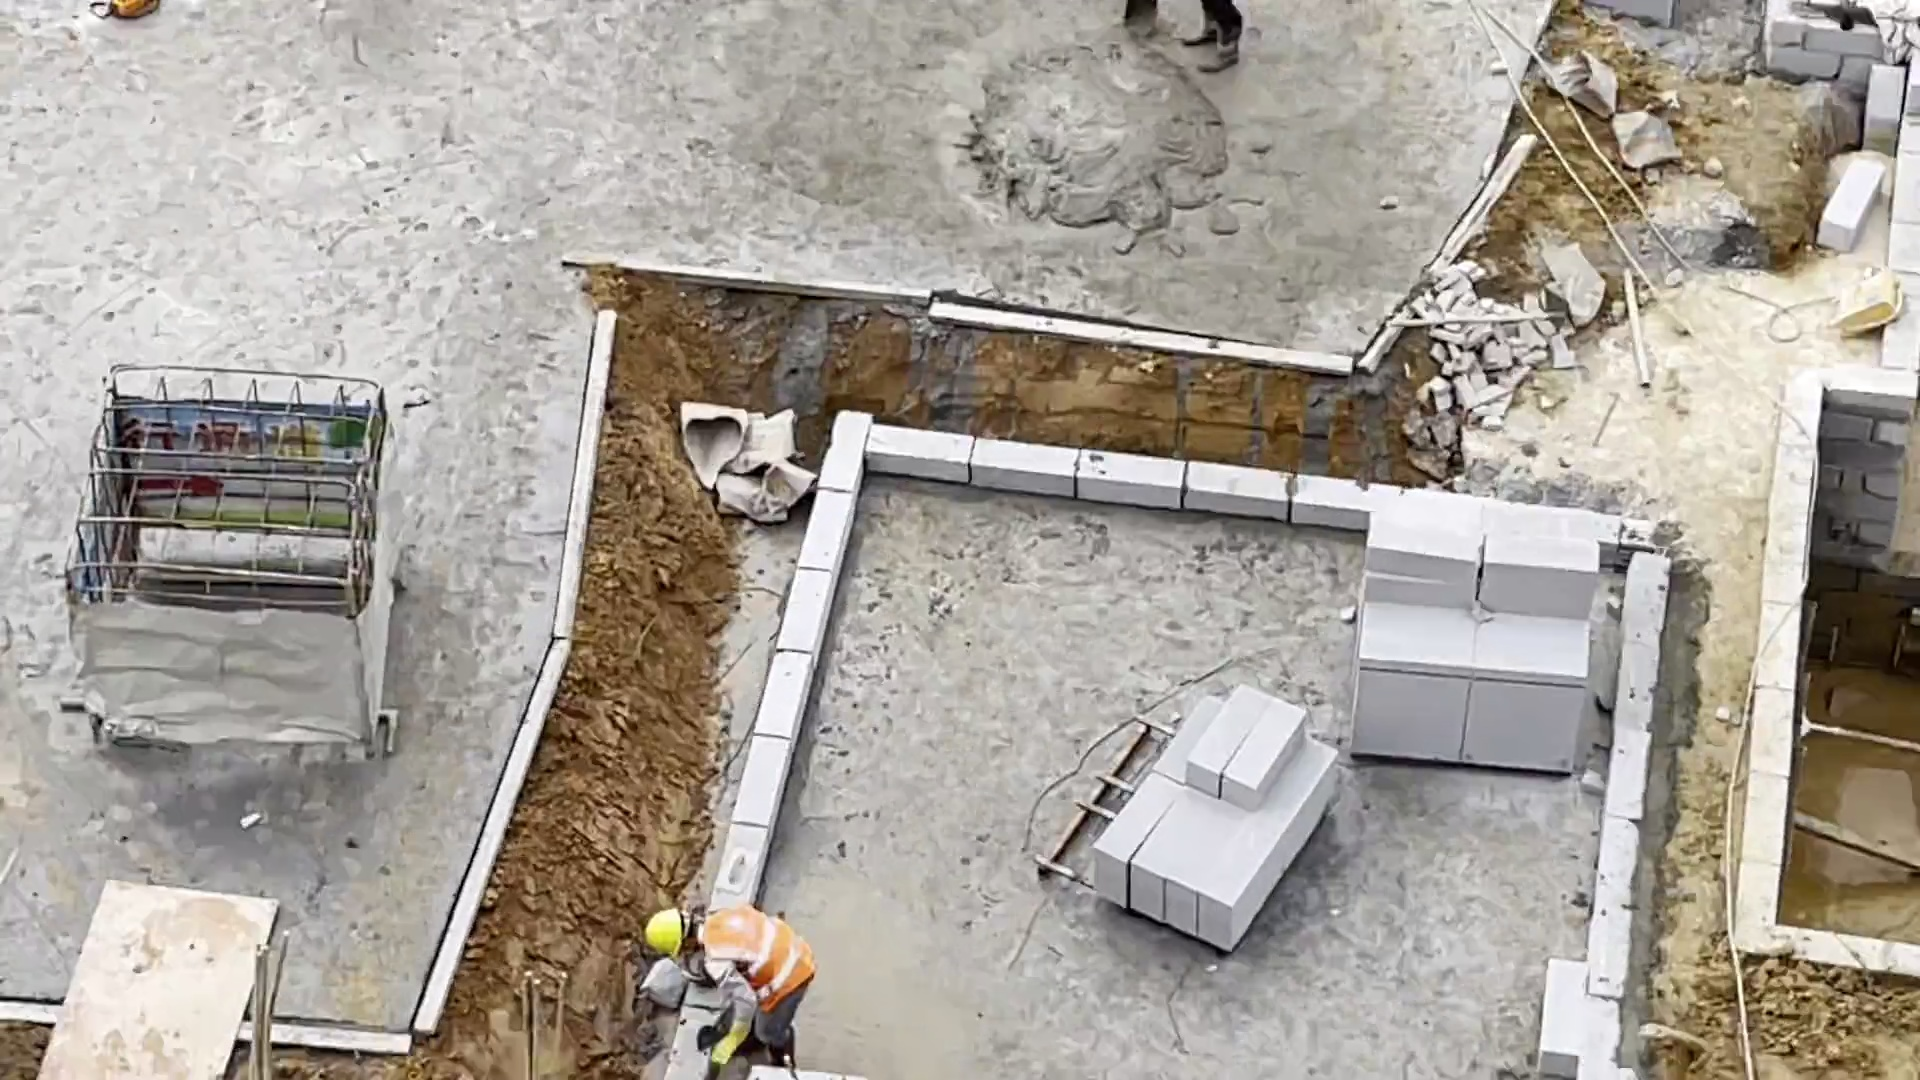brick: (1089, 679, 1342, 957), (1349, 494, 1595, 776)
helmet: (645, 908, 688, 961)
person: (640, 899, 815, 1068)
vest: (698, 896, 818, 1003)
